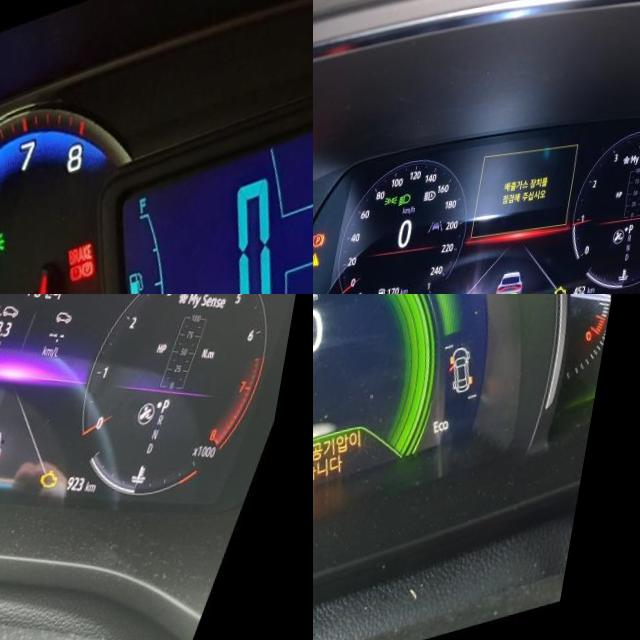Central Warning lamp: (316, 254, 332, 271)
Low beam: (406, 198, 420, 212)
SideLamp: (0, 231, 16, 259), (392, 200, 407, 211)
